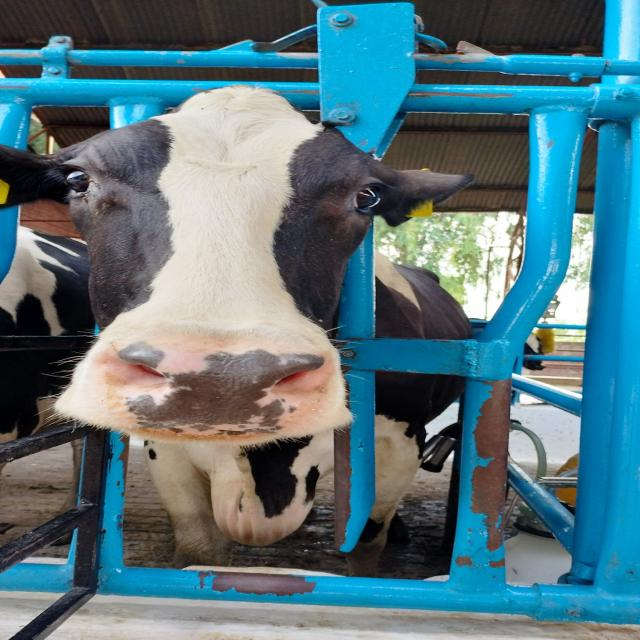muzzles: (104, 328, 333, 444)
